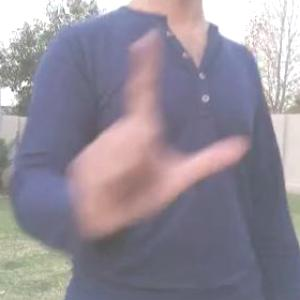land_hand: (71, 20, 243, 235)
